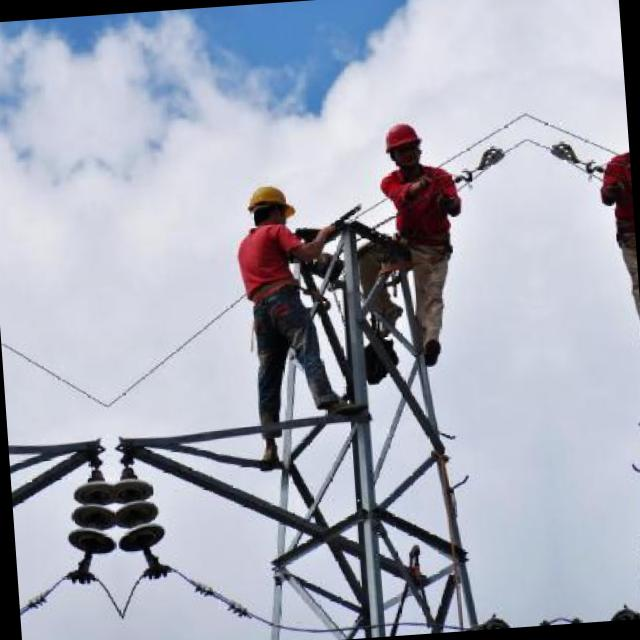helmet: (238, 175, 294, 232), (376, 116, 428, 174)
